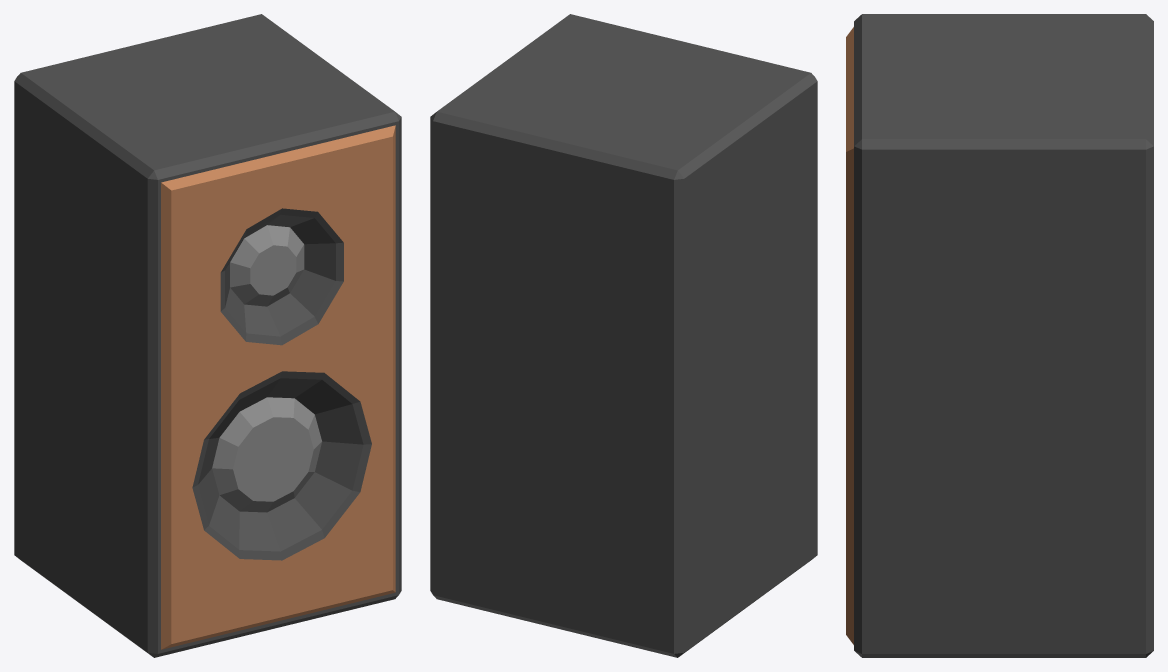
Rendered from speaker.gltf.
The picture shows the model from 3 angles, left to right: view 1: azimuth 30°, elevation 25°; view 2: azimuth 150°, elevation 25°; view 3: azimuth 270°, elevation 25°; orthographic projection. The views are drawn at different scales.
Parts seen in each view (by area): view 1: Speaker; view 2: Speaker; view 3: Speaker.
Boxes of the visible parts, bbox=[...] form: Speaker: bbox=[14, 14, 401, 657]; Speaker: bbox=[430, 14, 817, 657]; Speaker: bbox=[846, 14, 1153, 657].
Size of the model in its own units: 0.7881 by 1.45 by 0.7776.
